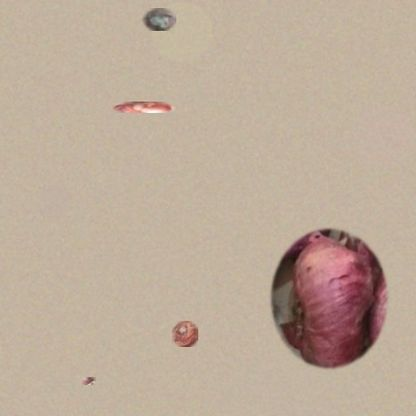healthy: (267, 225, 392, 372)
rotten: (142, 8, 176, 31), (113, 102, 176, 113), (172, 321, 198, 347)
sprouted: (82, 377, 96, 385)
